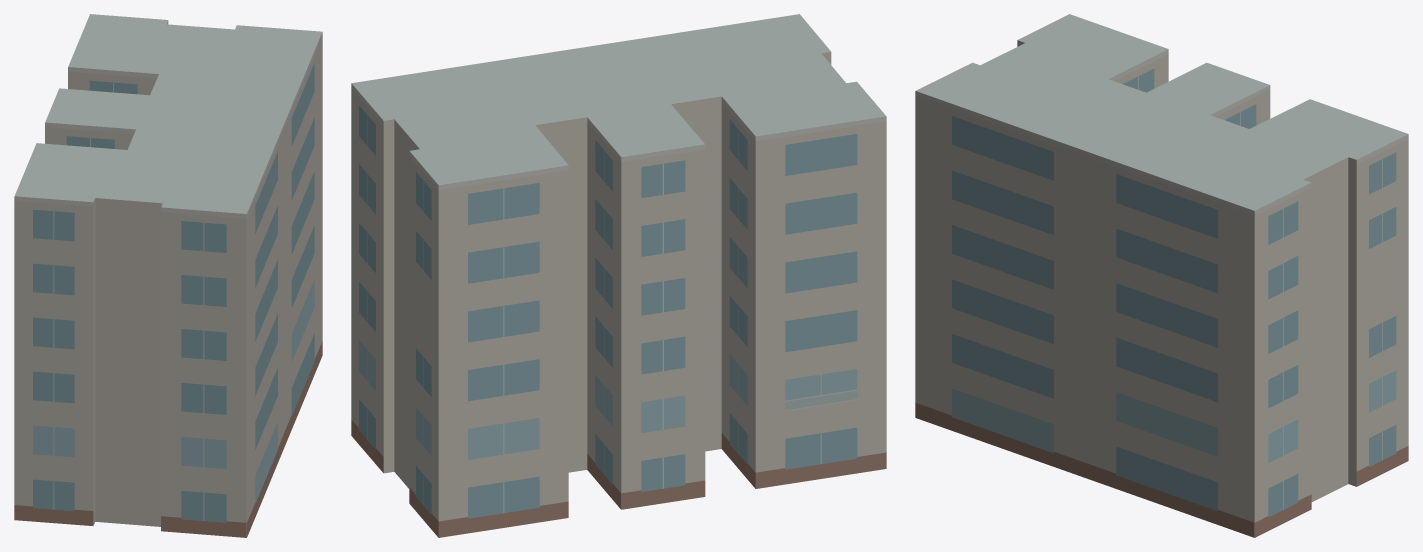
Rendered from survey-upis-32847659.glb.
The picture shows the model from 3 angles, left to right: view 1: azimuth 30°, elevation 25°; view 2: azimuth 150°, elevation 25°; view 3: azimuth 270°, elevation 25°; orthographic projection. The views are drawn at different scales.
Visible parts, largest first — view 1: survey-upis-32847659.tmp; view 2: survey-upis-32847659.tmp; view 3: survey-upis-32847659.tmp.
Part boxes in pixels (bbox=[...]): survey-upis-32847659.tmp: bbox=[14, 14, 322, 537]; survey-upis-32847659.tmp: bbox=[351, 14, 886, 537]; survey-upis-32847659.tmp: bbox=[915, 14, 1408, 537].
Bounding box in the file's own units: 22.49 × 17.4 × 23.79.
